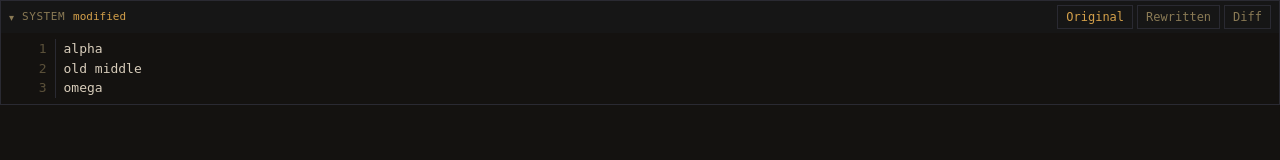
Scenario: SystemMessage › toggles to Rewritten then Diff view
Check: the text "old middle" is shown, box [54, 58, 1271, 78]
# Rewritten mode shows the rewritten text.
Click the button "Rewritten" at [1179, 17], box [1137, 5, 1220, 29]
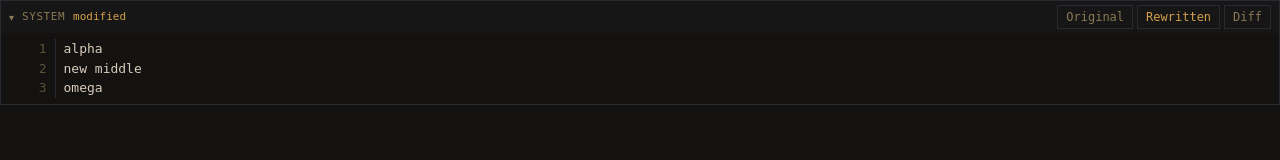
Check: the text "new middle" is shown, box [54, 58, 1271, 78]
# Diff mode renders the unified diff with both changed words highlighted.
Click the button "Diff" at [1248, 17], box [1224, 5, 1271, 29]
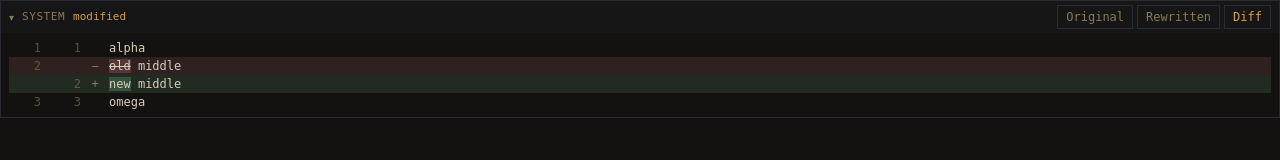
Check: the text "new" is shown, box [109, 77, 131, 91]
Check: the text "old" is shown, box [109, 59, 131, 73]
